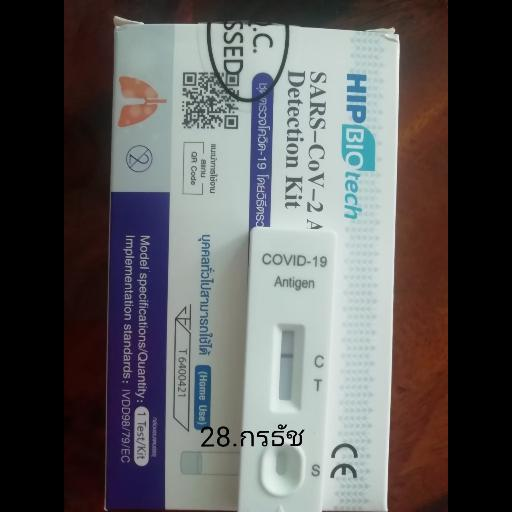Neg: (239, 226, 335, 506)
